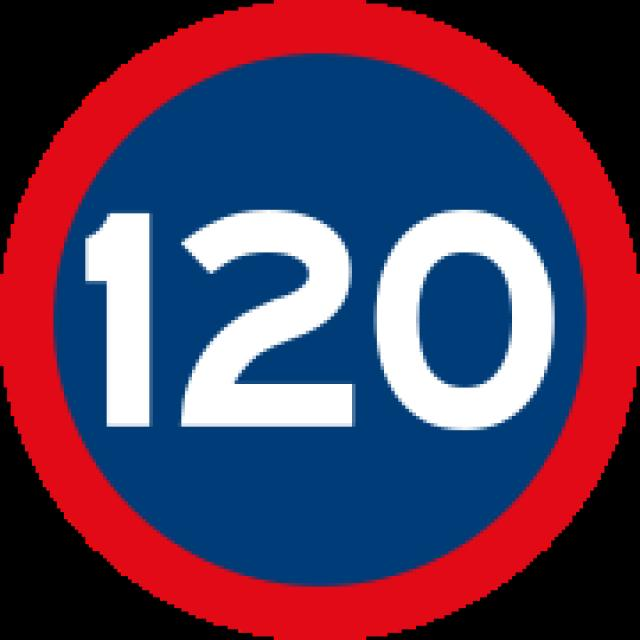Speed Limit -120-: (78, 209, 561, 435)
